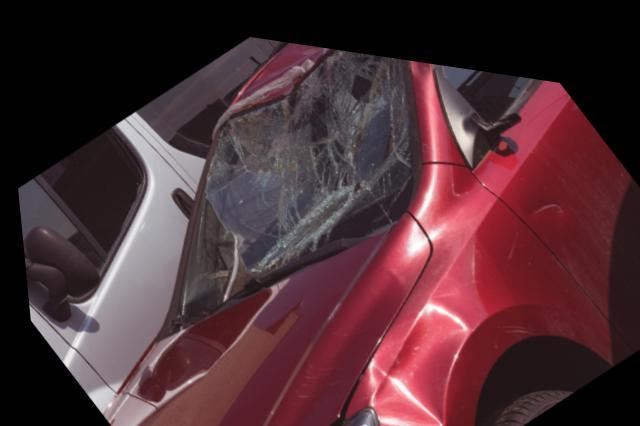dent: (362, 287, 465, 414), (242, 34, 327, 88), (521, 173, 563, 202)
glass shatter: (174, 39, 413, 326)
